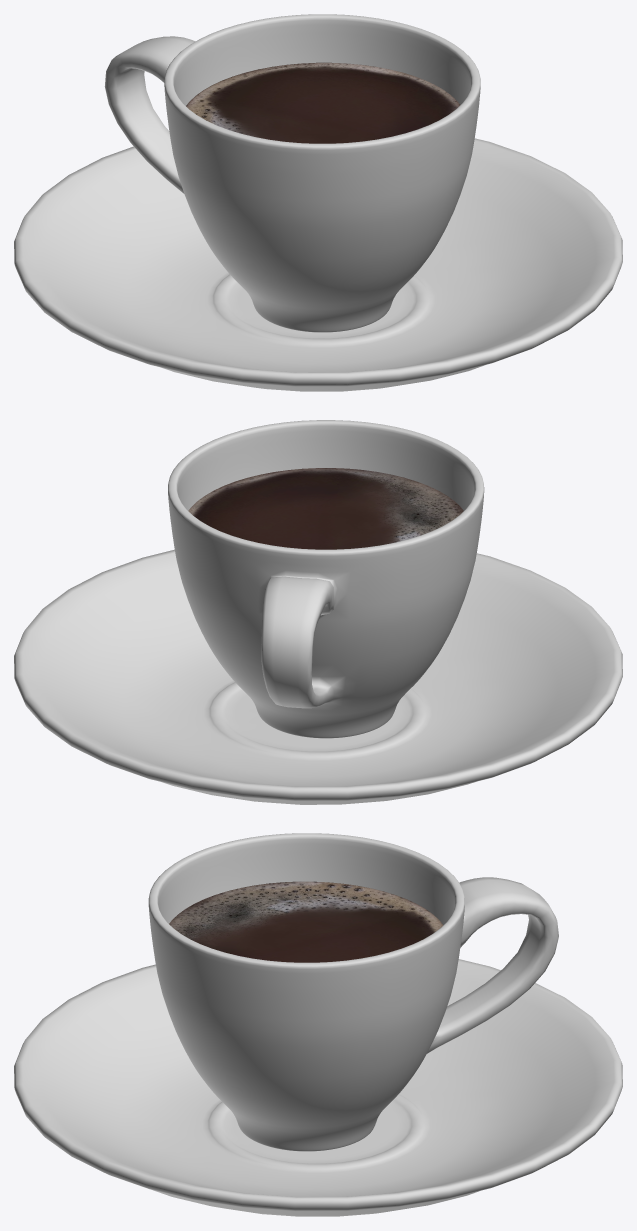
The model's file is cup.glb.
3 renders of one model, top to bottom at view 1: azimuth 30°, elevation 25°; view 2: azimuth 150°, elevation 25°; view 3: azimuth 270°, elevation 25°, orthographic.
Parts seen in each view (by area): view 1: Plate, Cup, Coffee; view 2: Plate, Cup, Coffee; view 3: Plate, Cup, Coffee.
Part boxes in pixels (<box>): Plate: <box>14,138,622,391</box>; Cup: <box>104,14,480,332</box>; Coffee: <box>186,62,459,143</box>; Plate: <box>14,549,622,804</box>; Cup: <box>168,420,484,738</box>; Coffee: <box>188,468,463,549</box>; Plate: <box>14,959,622,1216</box>; Cup: <box>148,833,558,1151</box>; Coffee: <box>169,881,443,962</box>.
Size of the model in its own units: 0.1345 by 0.0618 by 0.1345.
Materials: 2 (1 with a texture image).
